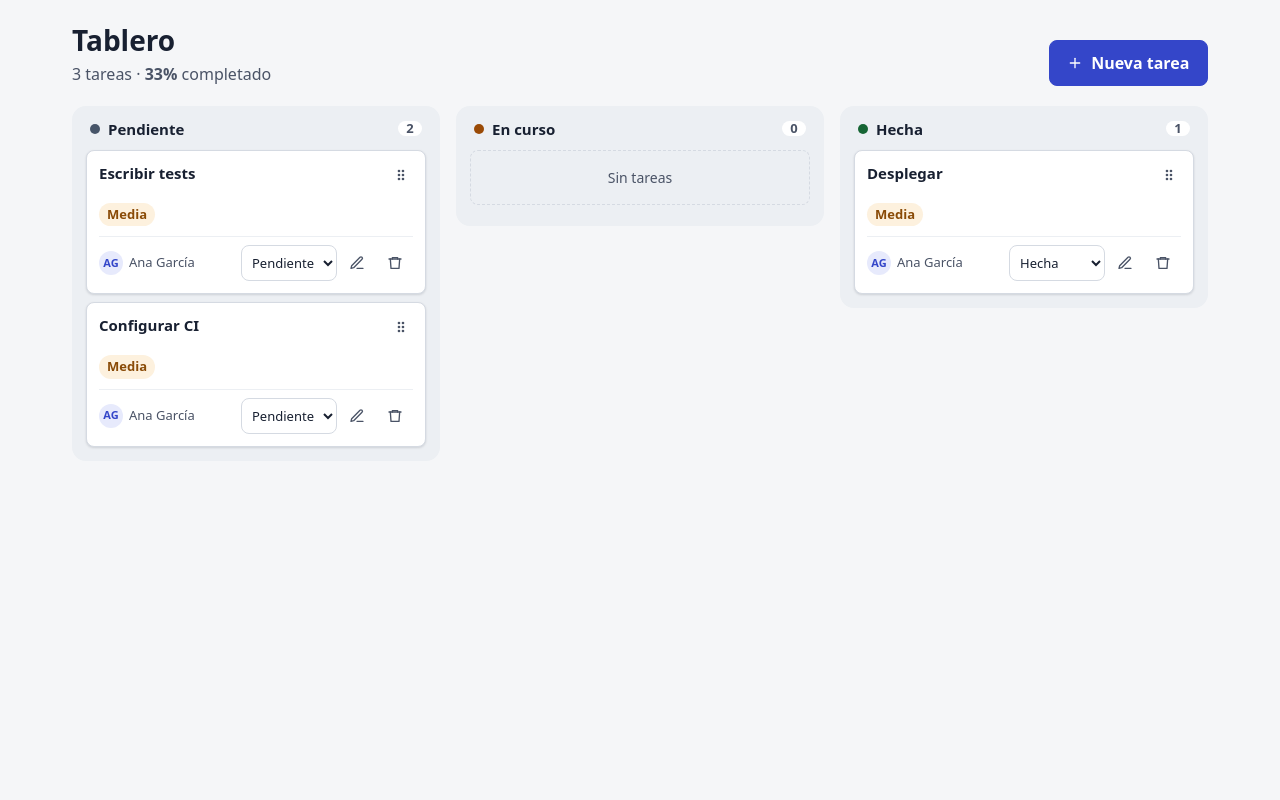
Tablero › edita una tarea con los datos actuales precargados
Click the button named "Editar «Desplegar»" at [1125, 263], box top-left (1107, 245), bottom-right (1143, 281)
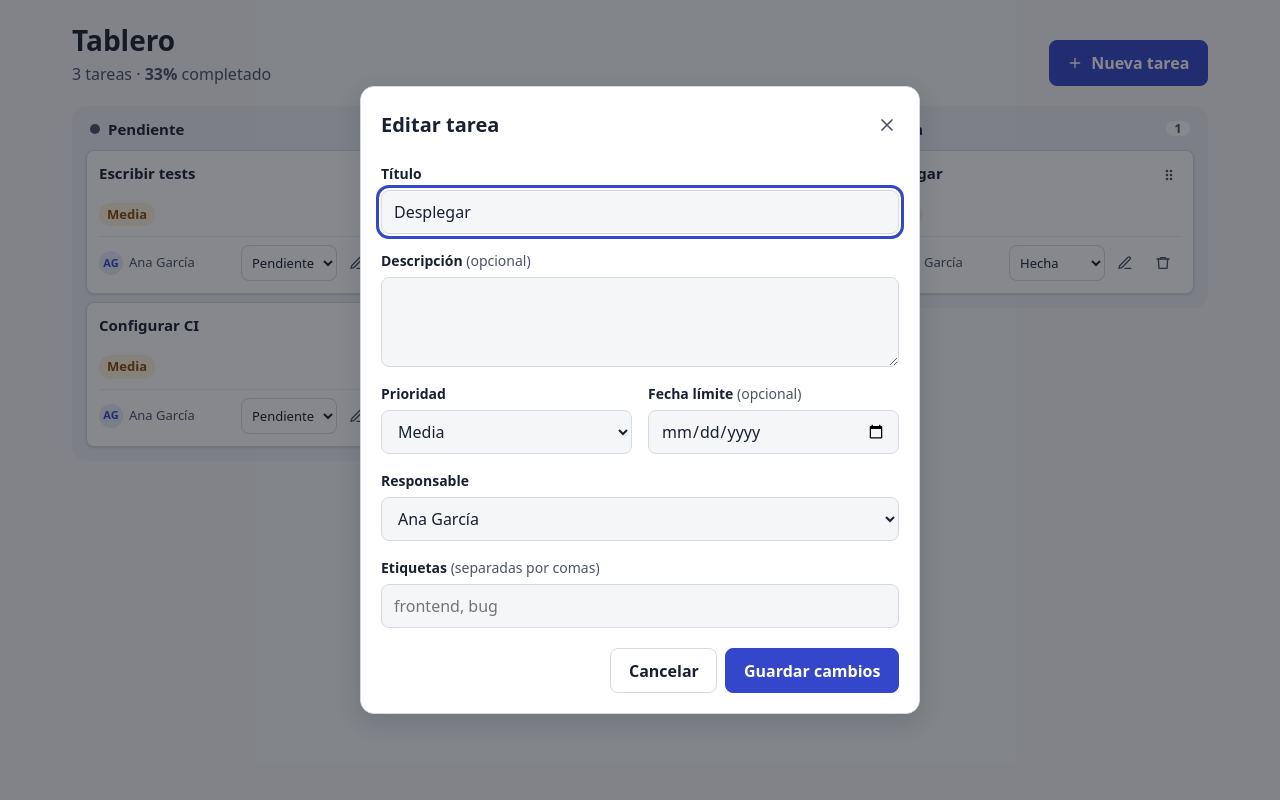
Check: the field labelled "Título" holds "Desplegar"
Type " en Vercel" into the field labelled "Título" at [640, 212], box top-left (381, 190), bottom-right (899, 234)
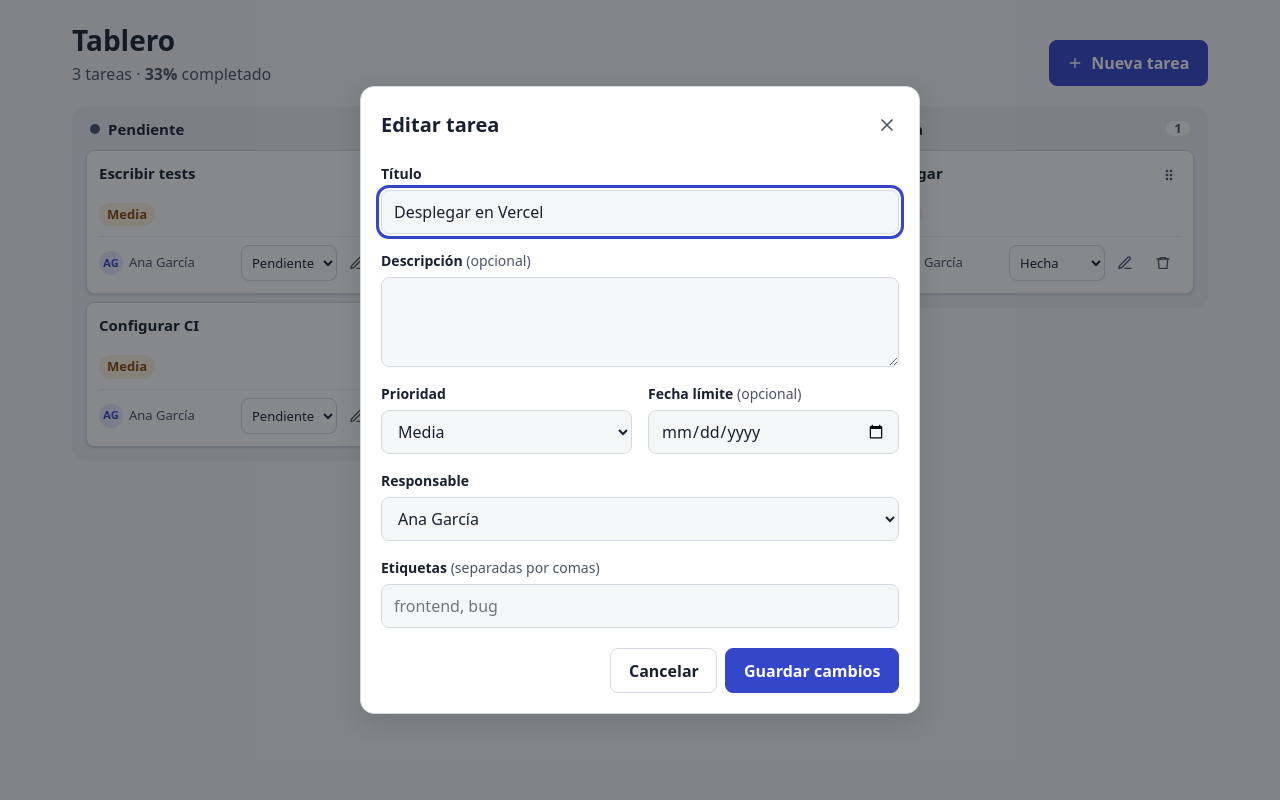
Click the button "Guardar cambios" at [812, 670], box top-left (725, 648), bottom-right (899, 693)
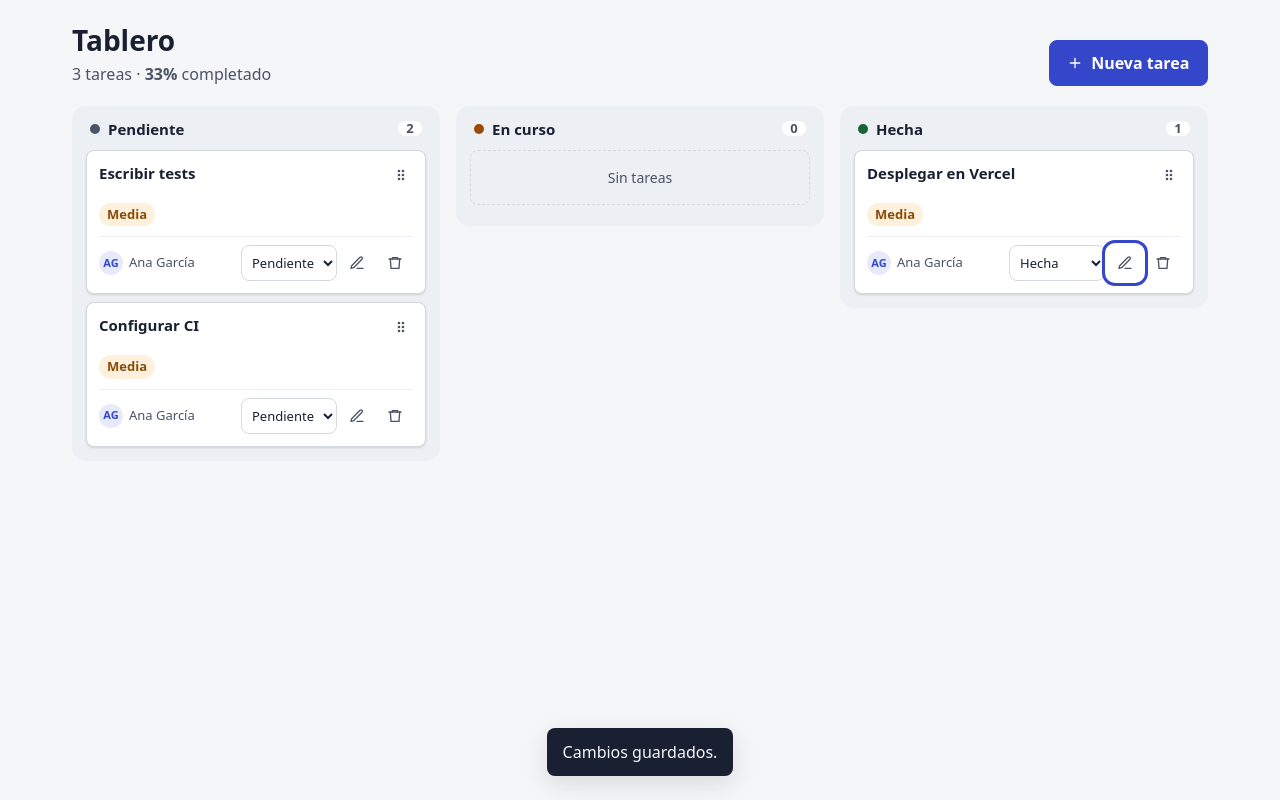
Check: the link "Desplegar en Vercel" is shown, box top-left (867, 163), bottom-right (1015, 183)
